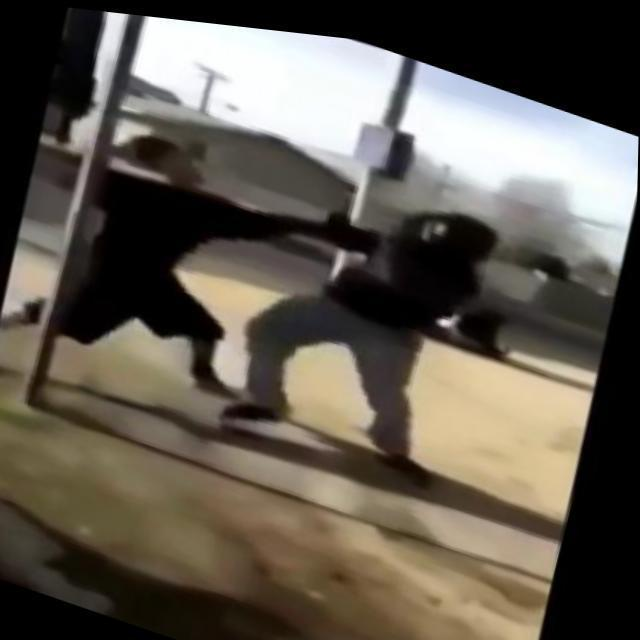fight: (9, 70, 520, 497)
